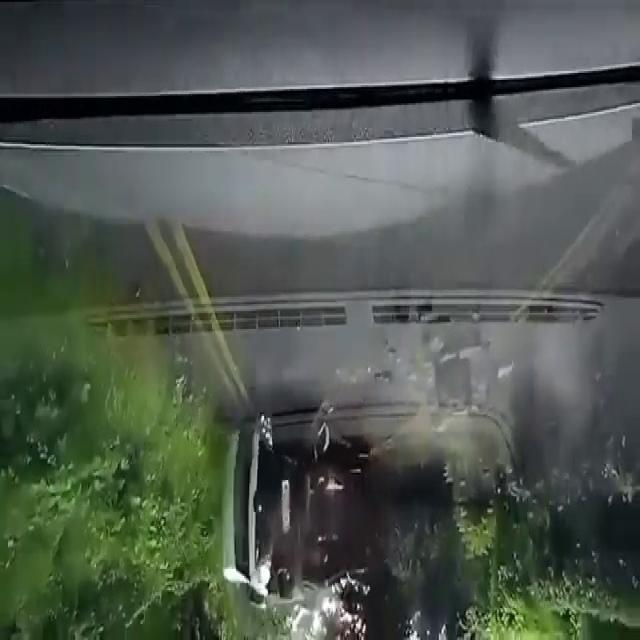severe: (218, 404, 334, 614)
